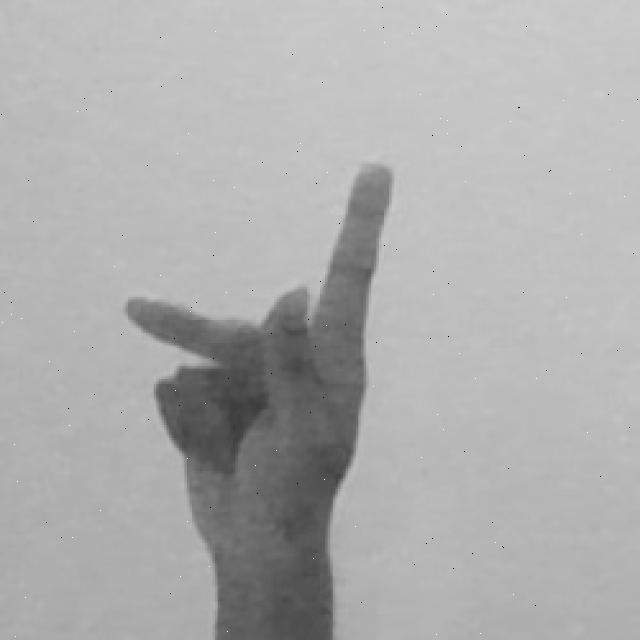K: (120, 158, 399, 640)
